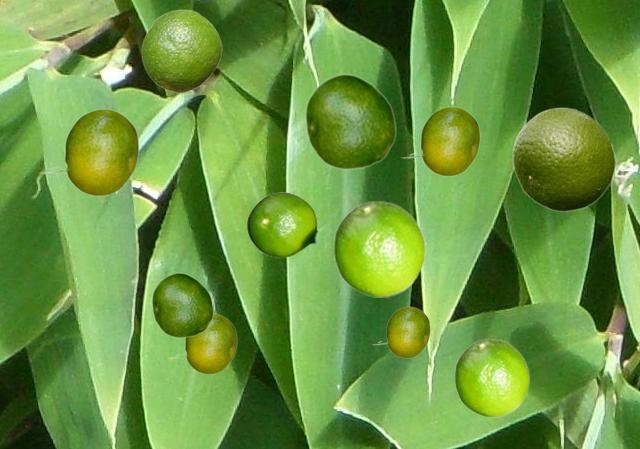calamansi: (512, 106, 615, 211), (304, 73, 396, 169), (333, 200, 425, 296), (39, 108, 138, 195), (141, 9, 221, 92), (454, 338, 529, 416), (400, 106, 479, 175), (246, 192, 325, 257), (167, 313, 236, 373), (151, 272, 213, 337), (371, 306, 429, 357)
